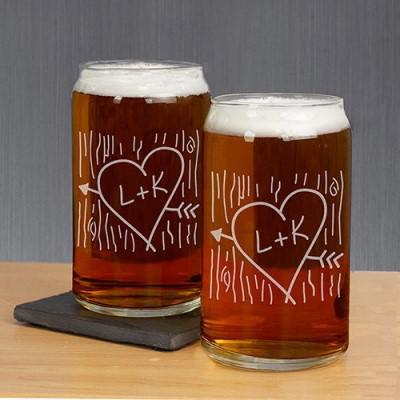beer: (69, 54, 353, 371)
